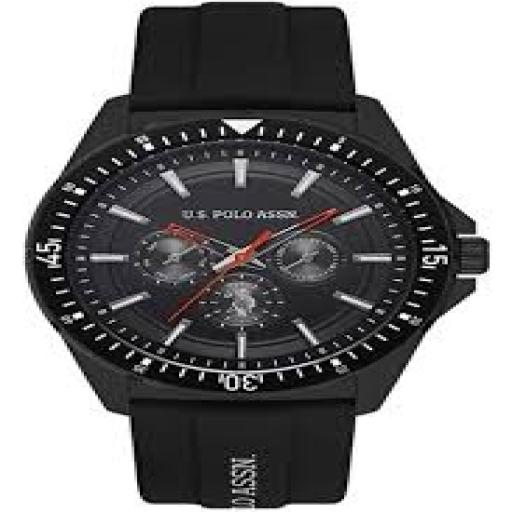KolSaati: (1, 3, 492, 509)
